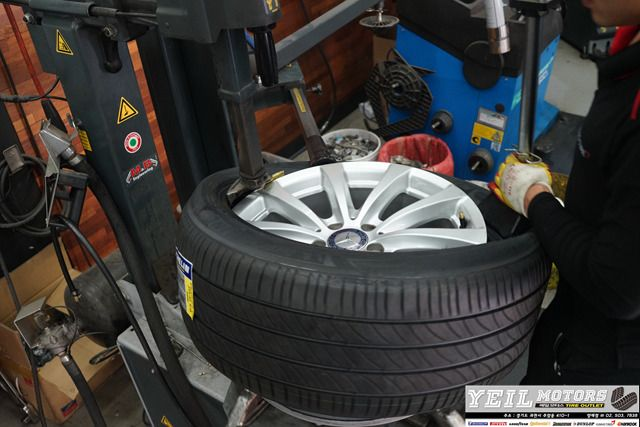new_condition: (172, 253, 462, 420)
